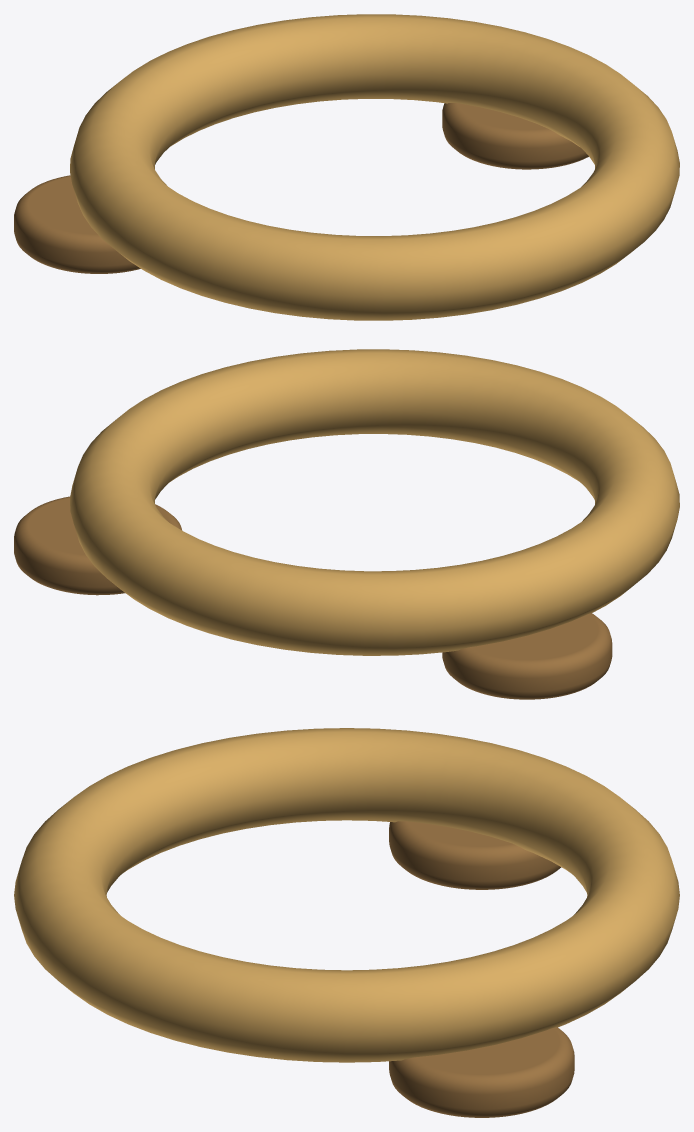
Rendered from drawer-pull-v1.glb.
3 views of the same model, one above another, from view 1: azimuth 30°, elevation 25°; view 2: azimuth 150°, elevation 25°; view 3: azimuth 270°, elevation 25° (orthographic). The views are drawn at different scales.
Parts seen in each view (by area): view 1: DrawerPull, PullMount, PullMount.001; view 2: DrawerPull, PullMount, PullMount.001; view 3: DrawerPull, PullMount.001, PullMount.
Boxes of the visible parts, x1,y1,x2,y2 form: DrawerPull: (70, 14, 679, 320); PullMount: (14, 175, 140, 273); PullMount.001: (442, 103, 588, 169); DrawerPull: (70, 349, 679, 655); PullMount: (442, 613, 612, 699); PullMount.001: (14, 496, 182, 595); DrawerPull: (14, 728, 679, 1062); PullMount.001: (389, 1027, 574, 1117); PullMount: (389, 821, 561, 889).
Bounding box in the file's own units: 0.86 × 0.1525 × 0.79.
